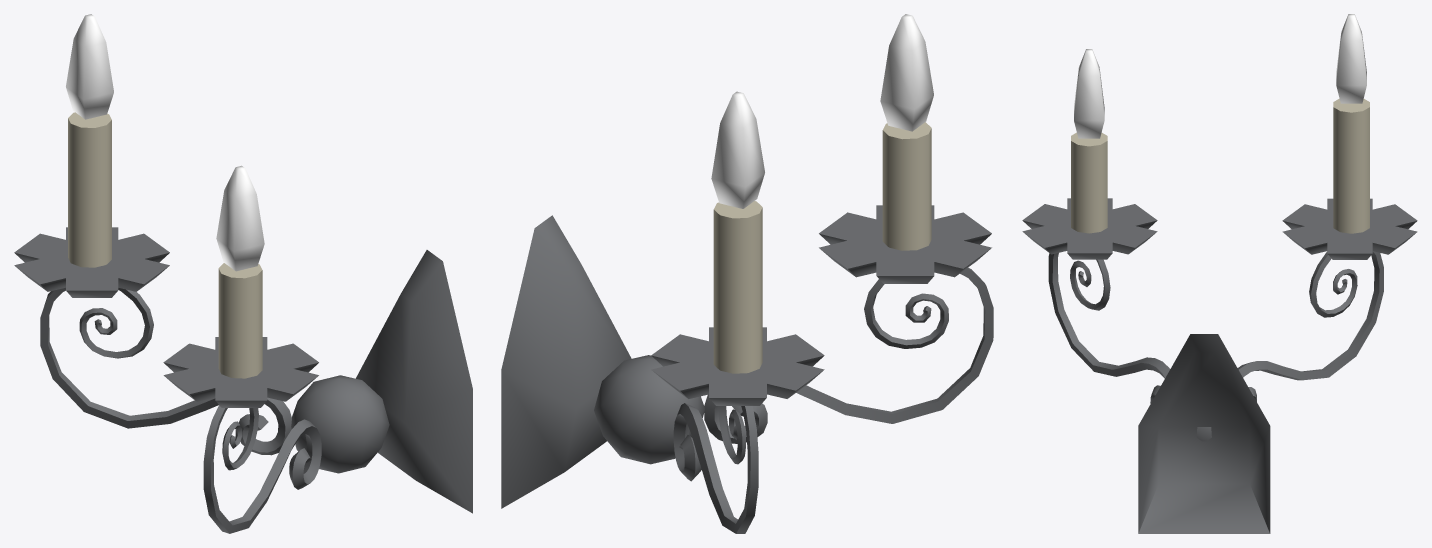
Rendered from E02_light_01.fbx.
3 renders of one model, left to right at view 1: azimuth 30°, elevation 25°; view 2: azimuth 150°, elevation 25°; view 3: azimuth 270°, elevation 25°, orthographic. The views are drawn at different scales.
Parts seen in each view (by area): view 1: candlestick, canle01, candle02, lightbulb, lightbulb_2; view 2: candlestick, canle01, candle02, lightbulb, lightbulb_2; view 3: candlestick, canle01, candle02, lightbulb, lightbulb_2.
Part boxes in pixels (box(x1,y1,x2,y2)): candlestick: box(14, 227, 472, 533); canle01: box(68, 112, 111, 267); candle02: box(218, 263, 262, 378); lightbulb: box(66, 14, 113, 119); lightbulb_2: box(216, 165, 264, 271); candlestick: box(501, 205, 993, 533); canle01: box(713, 201, 762, 373); candle02: box(882, 122, 931, 250); lightbulb: box(711, 91, 764, 208); lightbulb_2: box(880, 14, 933, 131); candlestick: box(1022, 198, 1417, 533); canle01: box(1333, 98, 1369, 233); candle02: box(1071, 132, 1107, 233); lightbulb: box(1336, 14, 1366, 103); lightbulb_2: box(1074, 49, 1104, 138).
Size of the model in its own units: 49.85 by 69.13 by 60.65.
